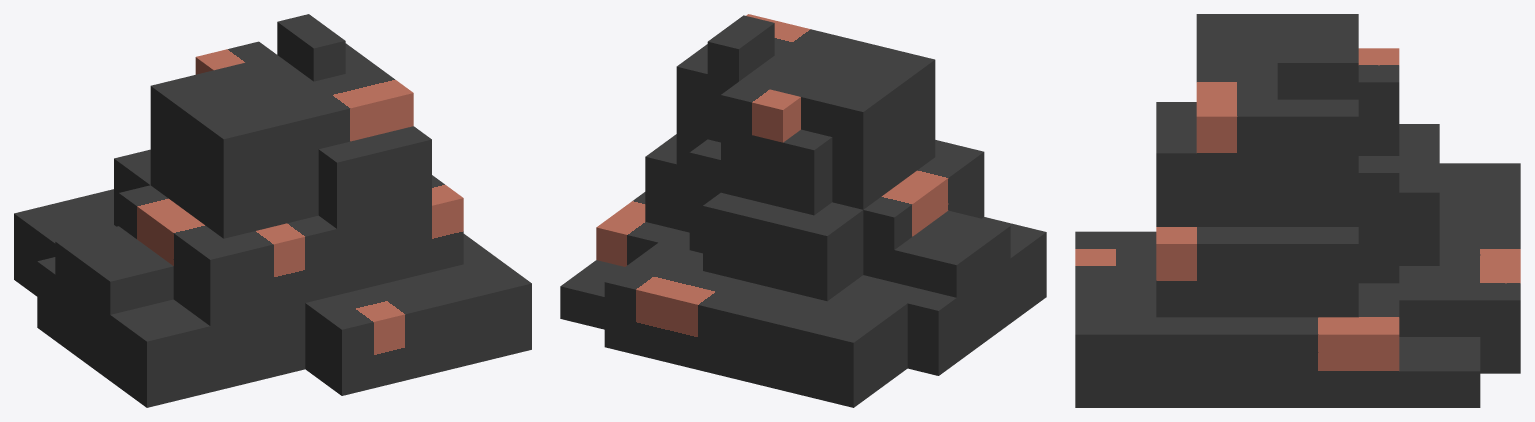
Rendered from IronOre.fbx.
3 views of the same model, side by side, from view 1: azimuth 30°, elevation 25°; view 2: azimuth 150°, elevation 25°; view 3: azimuth 270°, elevation 25° (orthographic). The views are drawn at different scales.
Visible parts, largest first — view 1: cube_12, cube_4, cube, cube_2, cube_10, cube_6, cube_1, cube_11, cube_5, cube_8; view 2: cube_1, cube_12, cube_5, cube_4, cube_2, cube_9, cube_6, cube_8, cube, cube_11, cube_3, cube_7; view 3: cube, cube_12, cube_1, cube_4, cube_3, cube_5, cube_7, cube_10, cube_11, cube_8, cube_9.
Boxes of the visible parts, x1,y1,x2,y2 form: cube_12: (150,43,413,238); cube_4: (119,175,463,325); cube: (305,234,531,395); cube_2: (37,257,305,407); cube_10: (318,126,431,228); cube_6: (55,226,173,314); cube_1: (14,189,115,296); cube_11: (277,14,345,81); cube_5: (114,149,150,226); cube_8: (195,41,276,74); cube_1: (604,242,907,407); cube_12: (676,14,935,209); cube_5: (703,192,863,301); cube_4: (645,134,984,282); cube_2: (845,217,1046,375); cube_9: (721,127,832,215); cube_6: (894,210,1010,297); cube_8: (721,82,800,142); cube: (596,192,689,266); cube_11: (707,15,774,81); cube_3: (560,260,624,329); cube_7: (689,139,720,253); cube: (1075,231,1399,407); cube_12: (1196,14,1358,226); cube_1: (1399,163,1520,373); cube_4: (1156,227,1358,317); cube_3: (1399,337,1480,407); cube_5: (1399,124,1439,265); cube_7: (1358,156,1399,283); cube_10: (1156,102,1196,226); cube_11: (1277,45,1358,99); cube_8: (1358,48,1399,119); cube_9: (1358,119,1399,155).
Size of the model in its own units: 68.75 by 50 by 68.75.
1 material, 1 textured.
